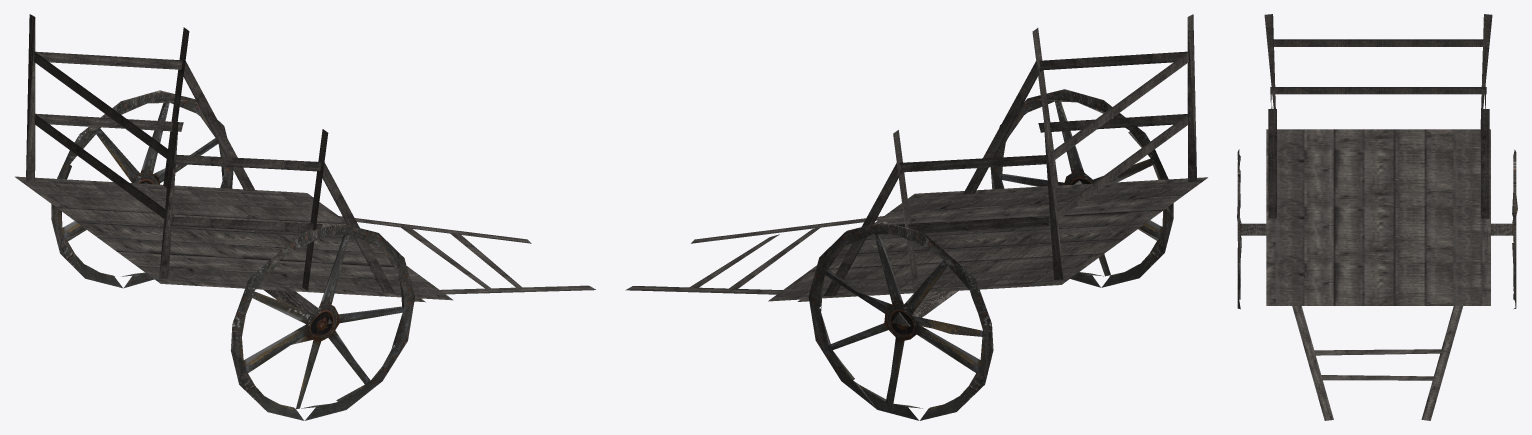
The model's file is haywagon_LOD.fbx.
The picture shows the model from 3 angles, left to right: view 1: azimuth 30°, elevation 25°; view 2: azimuth 150°, elevation 25°; view 3: azimuth 270°, elevation 25°; orthographic projection. The views are drawn at different scales.
Parts seen in each view (by area): view 1: Mesh Object; view 2: Mesh Object; view 3: Mesh Object.
Boxes of the visible parts, <box> form: Mesh Object: <box>15,14,595,420</box>; Mesh Object: <box>625,14,1207,420</box>; Mesh Object: <box>1237,14,1517,420</box>.
Size of the model in its own units: 2.72 by 1.71 by 1.82.
